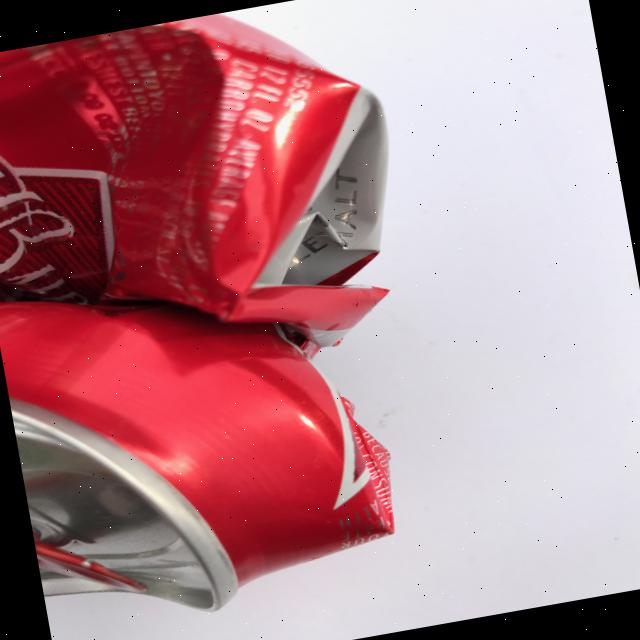metal: (0, 239, 411, 640)
